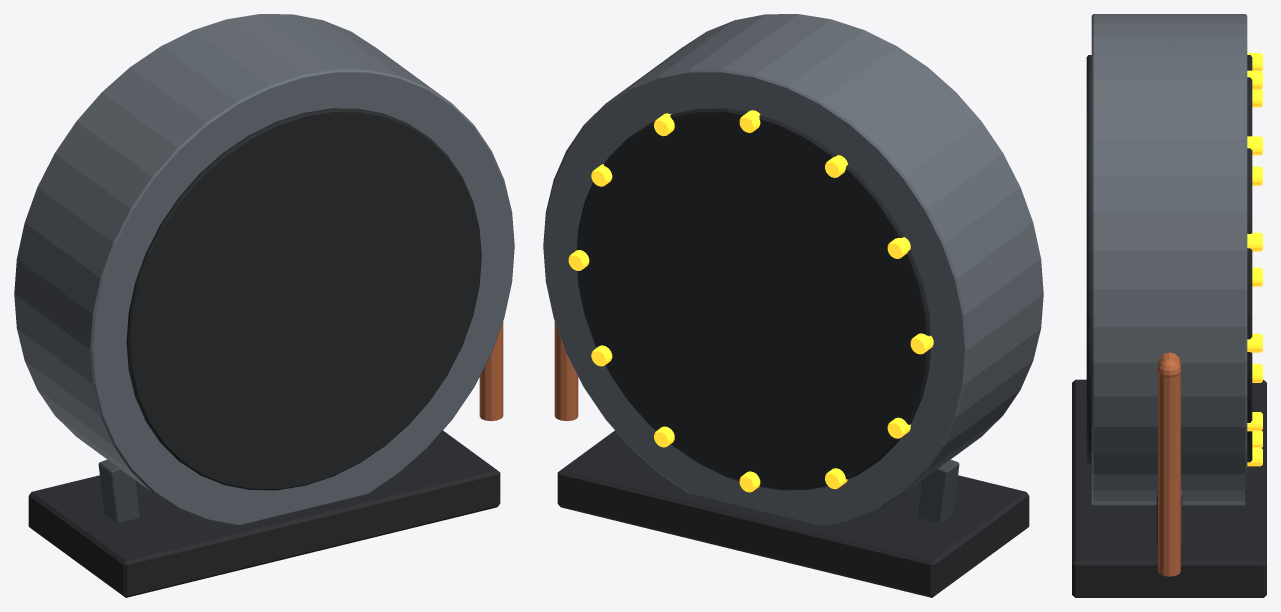
Rendered from afterburner_ring.glb.
The picture shows the model from 3 angles, left to right: view 1: azimuth 30°, elevation 25°; view 2: azimuth 150°, elevation 25°; view 3: azimuth 270°, elevation 25°; orthographic projection.
Visible parts, largest first — view 1: afterburner_ring; view 2: afterburner_ring; view 3: afterburner_ring.
Part boxes in pixels (x1=…): afterburner_ring: x1=14, y1=14, x2=514, y2=597; afterburner_ring: x1=543, y1=14, x2=1043, y2=597; afterburner_ring: x1=1072, y1=14, x2=1266, y2=597.
Bounding box in the file's own units: 1.6 × 1.6 × 0.6.
